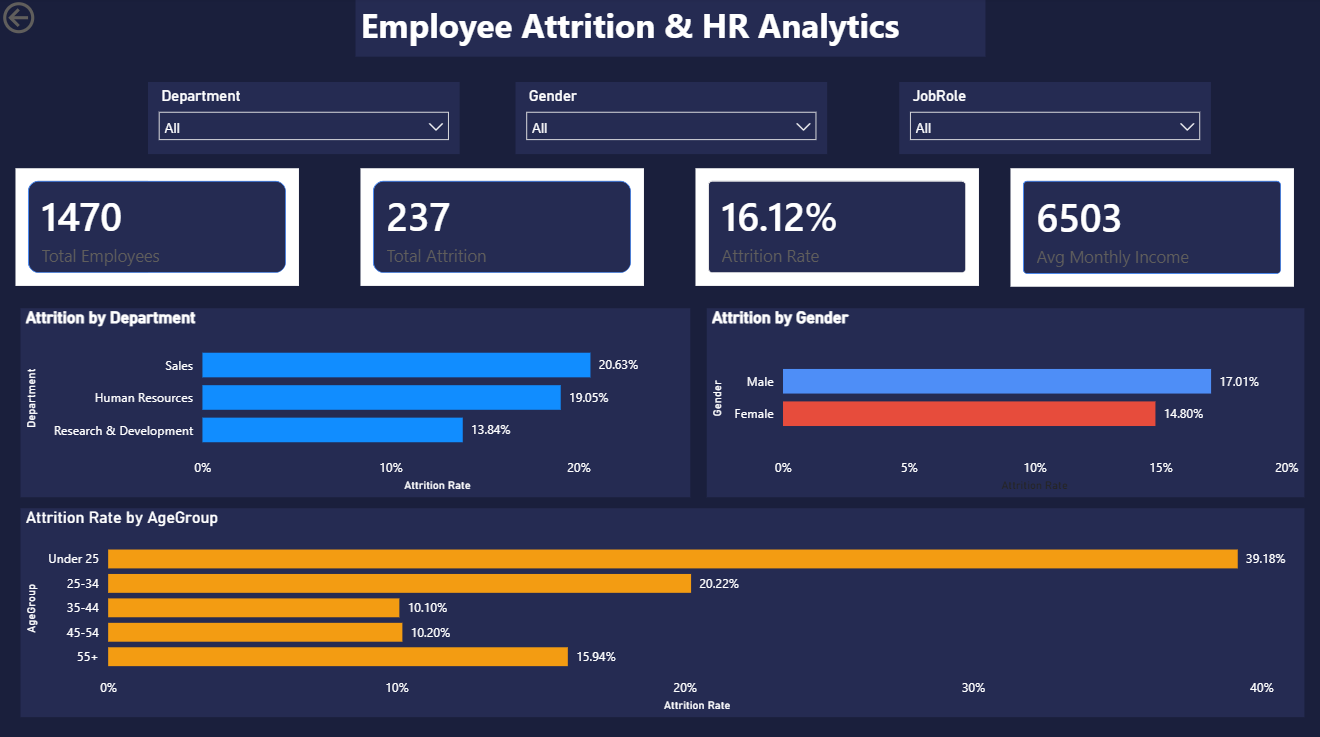

This screenshot's page, from the dashboard's own definition file:
{"tool":"powerbi","page":{"name":"Overview ","canvas":[1280,720],"ordinal":0},"visuals":[{"type":"cardVisual","fields":{"Data":["hr_analytics hr_data.Total Employees"]},"box":[12.1,160.5,283.5,123.1],"z":0},{"type":"cardVisual","fields":{"Data":["hr_analytics hr_data.Total Attrition"]},"box":[345,160.5,283.5,123.1],"z":1000},{"type":"cardVisual","fields":{"Data":["hr_analytics hr_data.Attrition Rate"]},"box":[668.4,160.5,283.5,123.1],"z":2000},{"type":"cardVisual","fields":{"Data":["hr_analytics hr_data.Avg Monthly Income Display"]},"box":[996.5,160.5,283.5,123.1],"z":3000},{"type":"clusteredBarChart","title":" Attrition by Department","fields":{"Category":["hr_analytics hr_data.Department"],"Y":["hr_analytics hr_data.Attrition Rate"]},"box":[21.7,300.4,646.7,182.2],"z":4000},{"type":"textbox","box":[345,0,608,57.9],"z":5000},{"type":"clusteredBarChart","title":"Attrition by Gender","fields":{"Category":["hr_analytics hr_data.Gender"],"Y":["hr_analytics hr_data.Attrition Rate"]},"box":[684.1,300.4,576.7,182.2],"z":6000},{"type":"clusteredBarChart","fields":{"Y":["hr_analytics hr_data.Attrition Rate"],"Category":["hr_analytics hr_data.AgeGroup"]},"box":[21.7,493.4,1239,201.5],"z":7000},{"type":"actionButton","box":[0,0,100,40],"z":8000},{"type":"slicer","fields":{"Values":["hr_analytics hr_data.Department"]},"box":[144.8,82,300.4,70],"z":9000},{"type":"slicer","fields":{"Values":["hr_analytics hr_data.JobRole"]},"box":[869.8,82,300.4,70],"z":10000},{"type":"slicer","fields":{"Values":["hr_analytics hr_data.Gender"]},"box":[499.5,82,300.4,70],"z":11000}]}

Visuals, with their boxes in screenshot pixels (x1, y1, x2, y2), scaled from the page's 1280x720 canvas onto the 1320x737 screenshot:
cardVisual - hr_analytics hr_data.Total Employees: x1=12 y1=164 x2=305 y2=290
cardVisual - hr_analytics hr_data.Total Attrition: x1=356 y1=164 x2=648 y2=290
cardVisual - hr_analytics hr_data.Attrition Rate: x1=689 y1=164 x2=982 y2=290
cardVisual - hr_analytics hr_data.Avg Monthly Income Display: x1=1028 y1=164 x2=1319 y2=290
" Attrition by Department" clusteredBarChart: x1=22 y1=307 x2=689 y2=494
textbox: x1=356 y1=0 x2=983 y2=59
"Attrition by Gender" clusteredBarChart: x1=705 y1=307 x2=1300 y2=494
clusteredBarChart - hr_analytics hr_data.Attrition Rate x hr_analytics hr_data.AgeGroup: x1=22 y1=505 x2=1300 y2=711
actionButton: x1=0 y1=0 x2=103 y2=41
slicer - hr_analytics hr_data.Department: x1=149 y1=84 x2=459 y2=156
slicer - hr_analytics hr_data.JobRole: x1=897 y1=84 x2=1207 y2=156
slicer - hr_analytics hr_data.Gender: x1=515 y1=84 x2=825 y2=156
